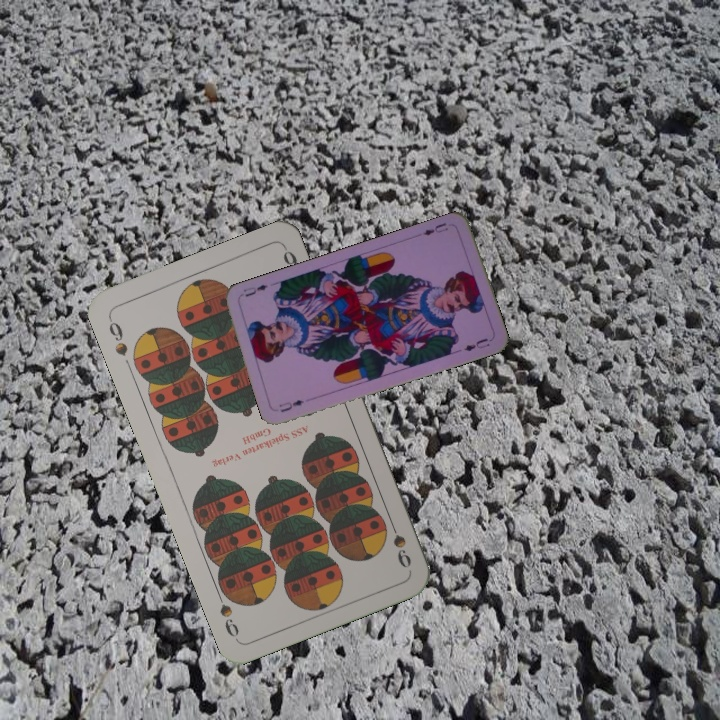EU: (419, 218, 451, 238), (275, 395, 306, 415)
S9: (379, 514, 414, 571), (104, 313, 130, 359)
